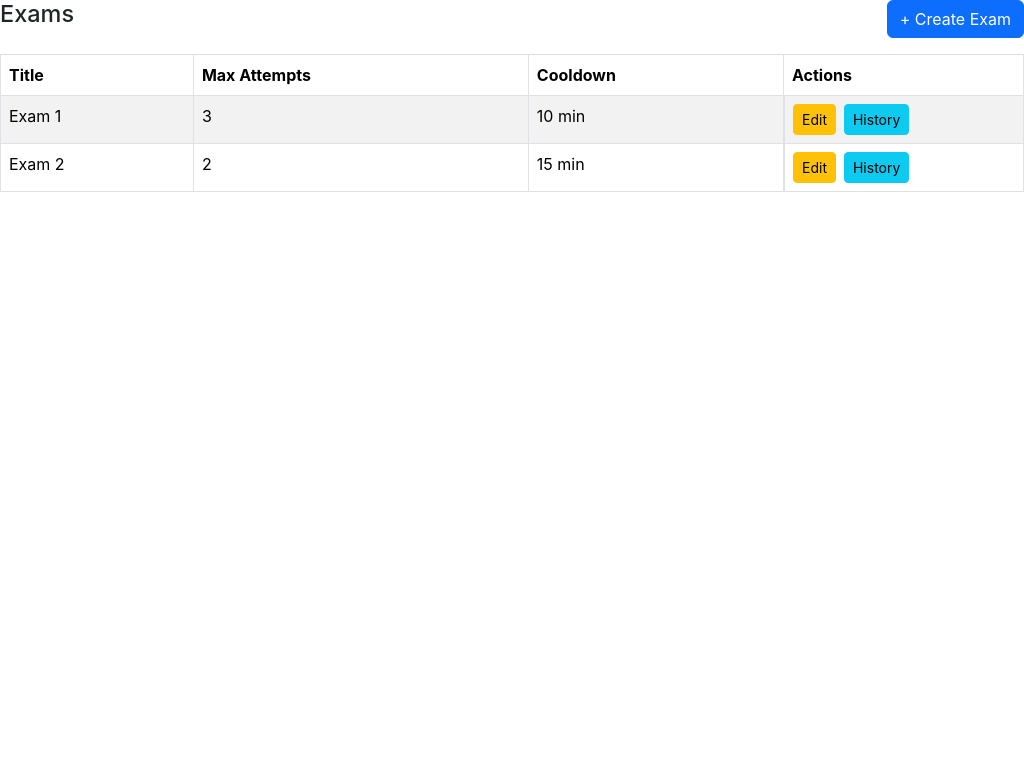
AdminExamList › opens edit exam modal
The image size is (1024, 768).
Click the button "Edit" in the row of "Exam 1". click: (814, 120)
box: [793,104,836,135]
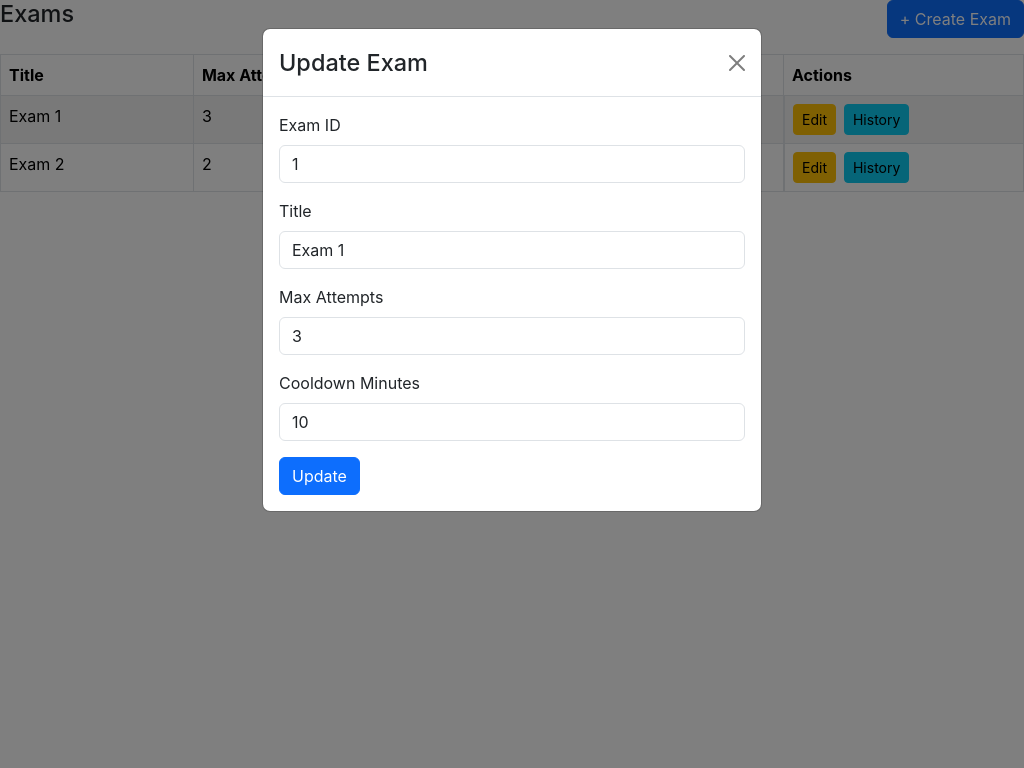
expect the text "Update Exam" is shown: met, box [279,45,428,80]
